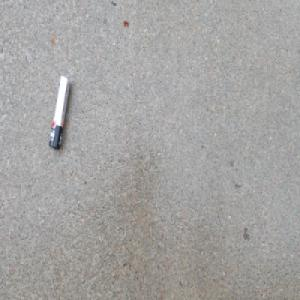Battery: (48, 73, 72, 151)
